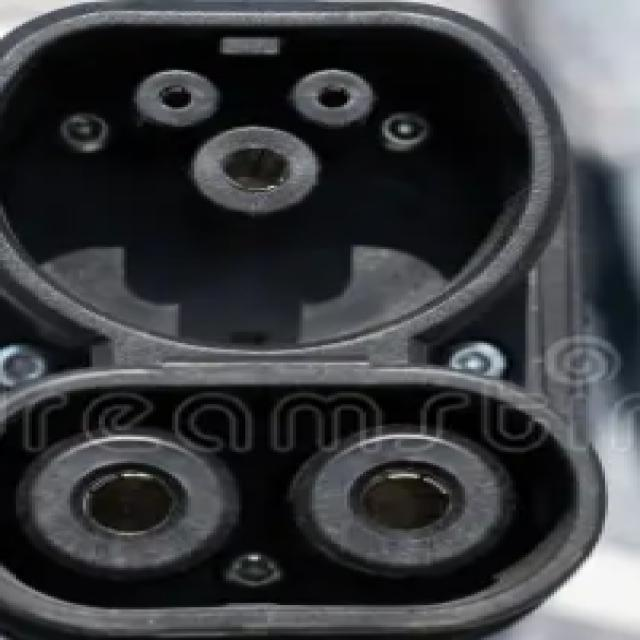CCS1: (3, 5, 622, 622)
